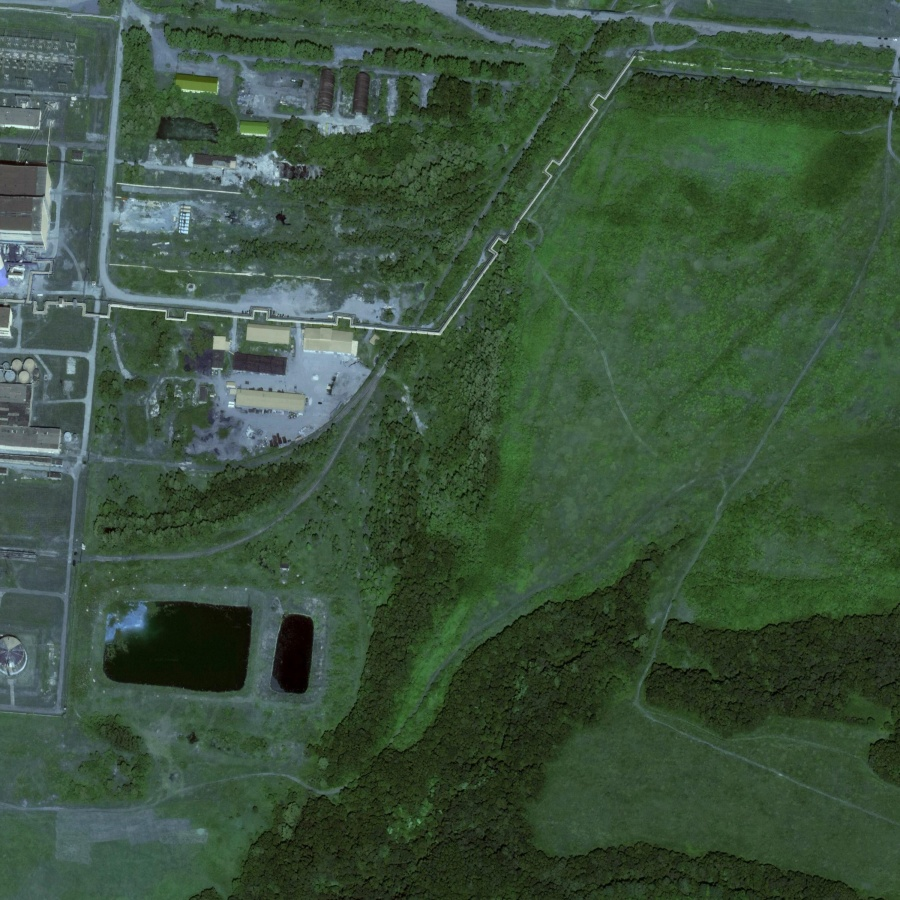PowerPlant: (93, 587, 327, 714)
